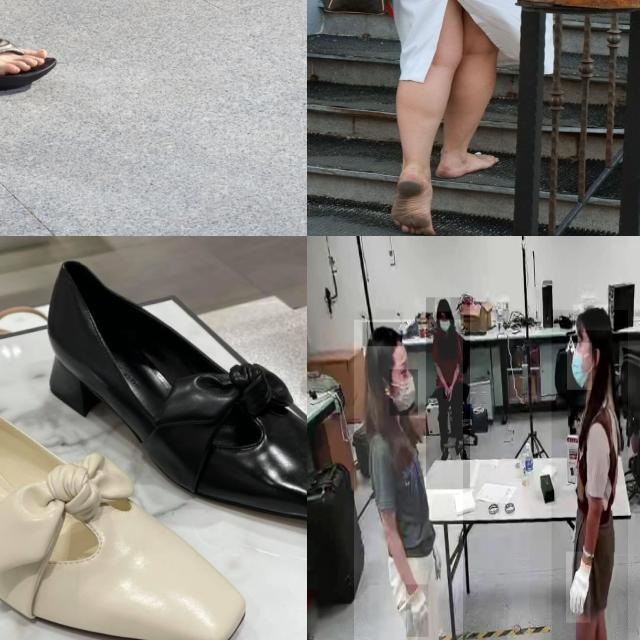Barefoots: (391, 172, 435, 236), (436, 152, 500, 178)
Sandals: (0, 316, 271, 640), (20, 253, 307, 541), (0, 14, 56, 90)
face_mask: (390, 370, 418, 416), (567, 342, 592, 390), (438, 313, 453, 339)
hand_glove: (566, 552, 591, 624), (406, 584, 429, 638)
hand_noglove: (446, 384, 453, 402), (443, 382, 449, 400)
head_nohelmet: (363, 322, 403, 347), (573, 305, 611, 331), (435, 298, 451, 312)
person: (354, 319, 463, 640), (551, 309, 628, 640), (426, 298, 470, 490)
